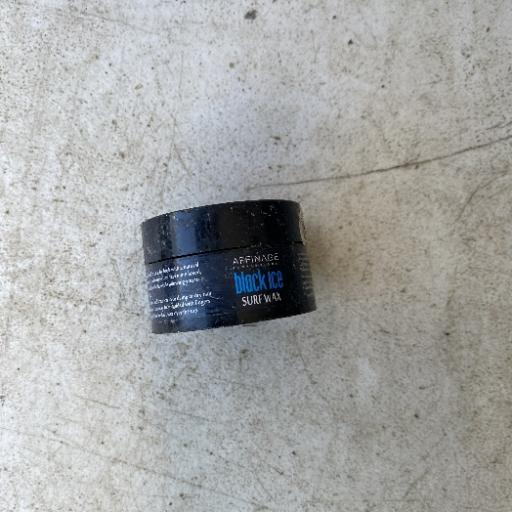Plastic: (138, 197, 318, 336)
